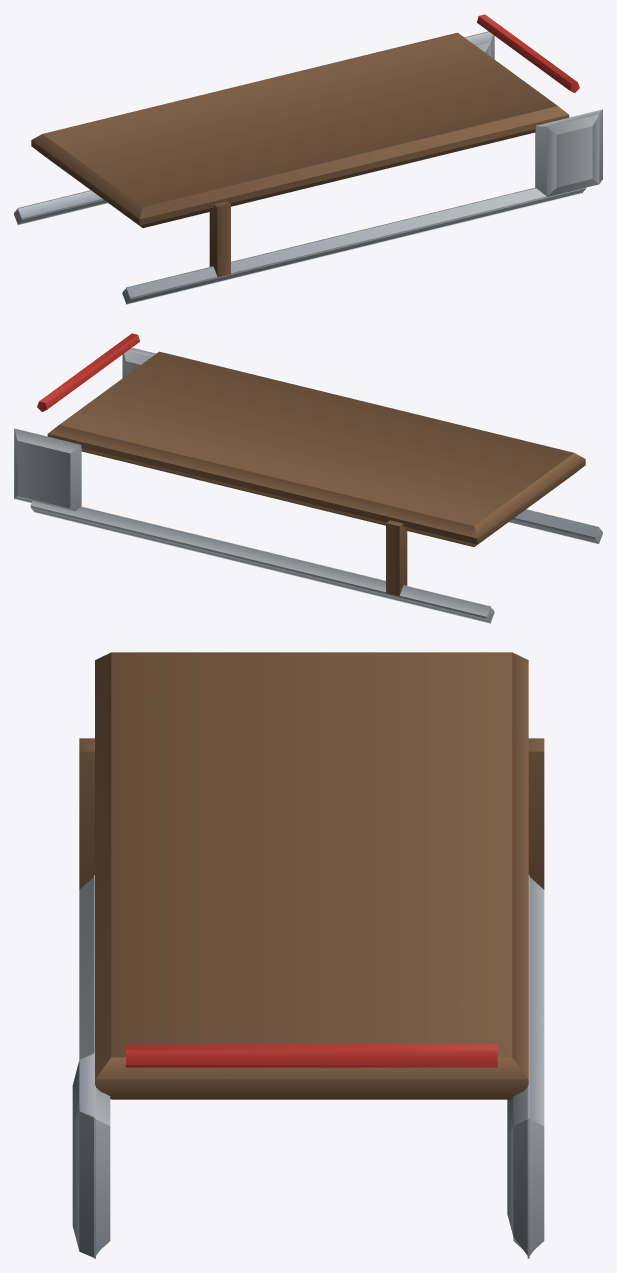
Rendered from dt_wooden_sled.fbx.
3 renders of one model, top to bottom at view 1: azimuth 30°, elevation 25°; view 2: azimuth 150°, elevation 25°; view 3: azimuth 270°, elevation 25°, orthographic. The views are drawn at different scales.
Visible parts, largest first — view 1: dt_wooden_sled; view 2: dt_wooden_sled; view 3: dt_wooden_sled.
Part boxes in pixels (x1=…): dt_wooden_sled: x1=14, y1=14, x2=602, y2=304; dt_wooden_sled: x1=14, y1=333, x2=602, y2=623; dt_wooden_sled: x1=72, y1=652, x2=544, y2=1258.
Size of the model in its own units: 320 by 66.92 by 137.
